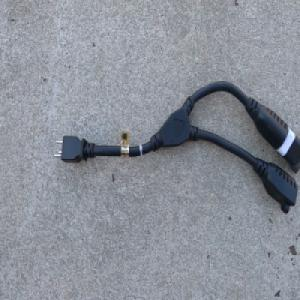Wire: (53, 79, 300, 214)
